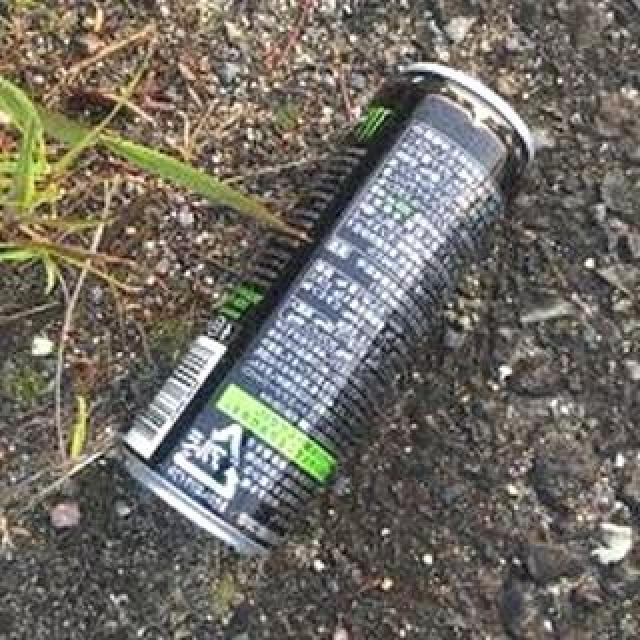Can: (117, 50, 549, 562)
